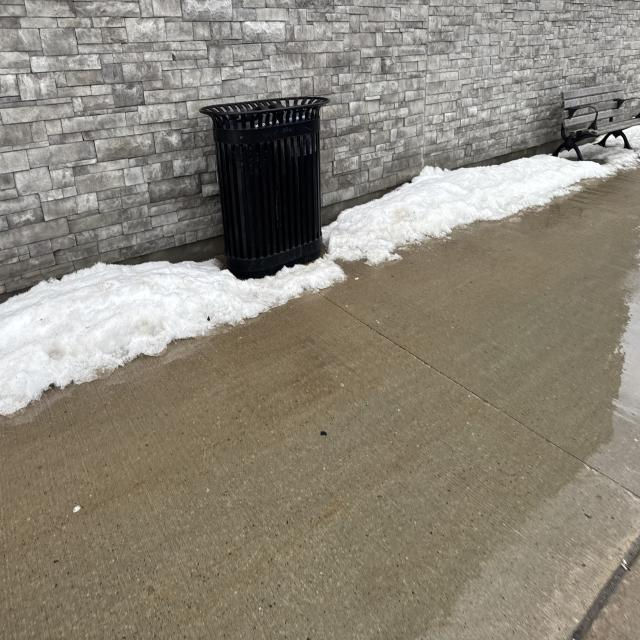Dustbin: (198, 95, 328, 274)
